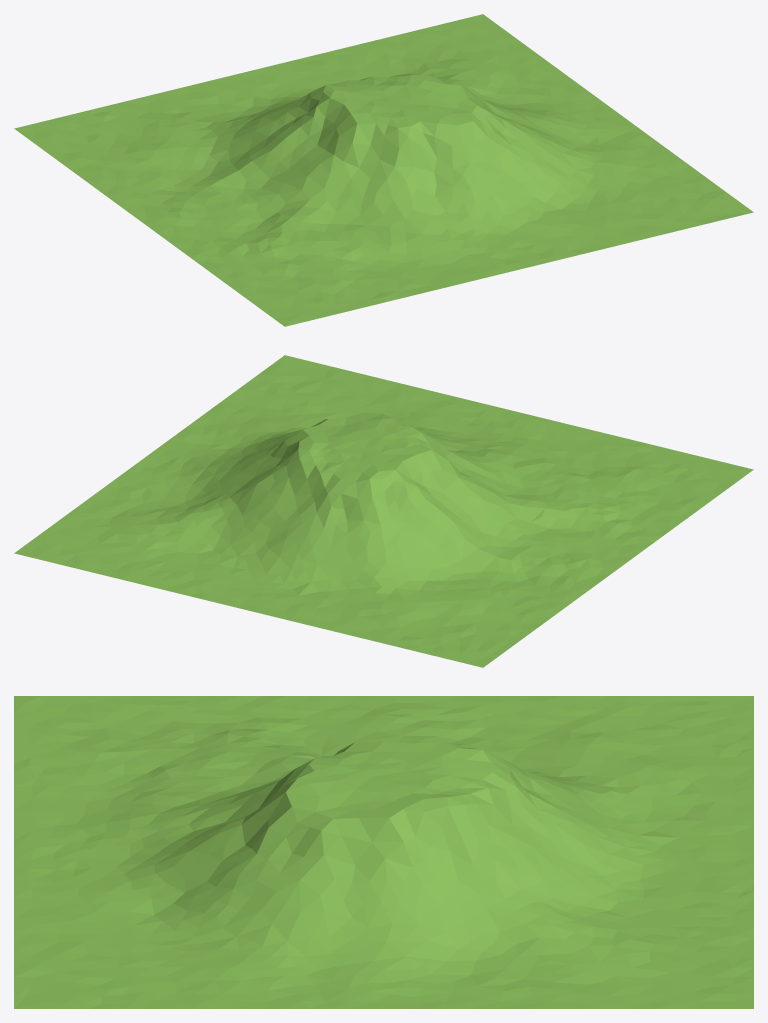
The model's file is MT_Terrain_L_c_17_LOD.fbx.
3 views of the same model, one above another, from view 1: azimuth 30°, elevation 25°; view 2: azimuth 150°, elevation 25°; view 3: azimuth 270°, elevation 25° (orthographic). The views are drawn at different scales.
Parts seen in each view (by area): view 1: MT_Terrain_L_c_17_LOD0; view 2: MT_Terrain_L_c_17_LOD0; view 3: MT_Terrain_L_c_17_LOD0.
Part boxes in pixels (x1,y1,x2,y2): MT_Terrain_L_c_17_LOD0: [14, 14, 753, 326]; MT_Terrain_L_c_17_LOD0: [14, 355, 753, 667]; MT_Terrain_L_c_17_LOD0: [14, 696, 753, 1008].
Size of what is drawn, in the model's own units: 10000 by 1373 by 10000.
